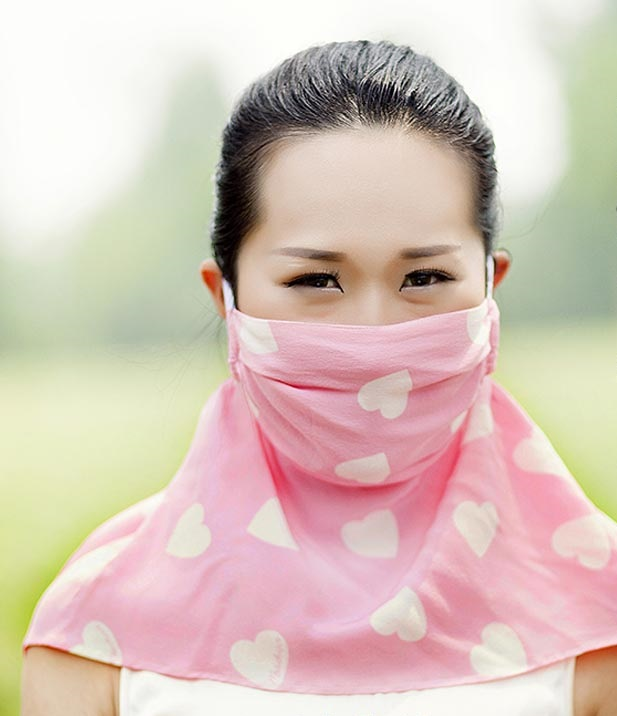face_mask: (240, 125, 482, 482)
